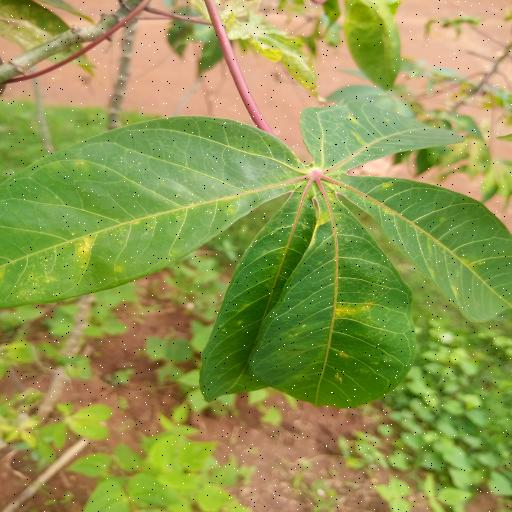Cassava_Mosaic: (0, 81, 512, 421)
